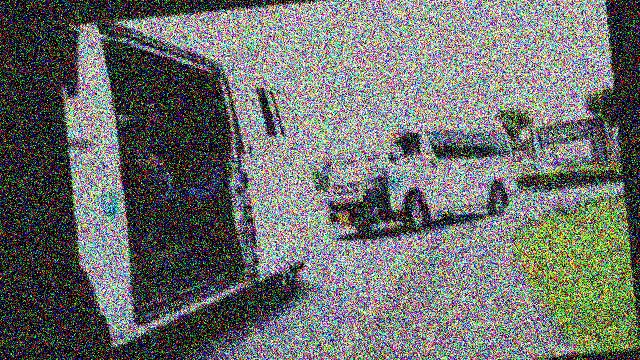van: (320, 109, 526, 241)
